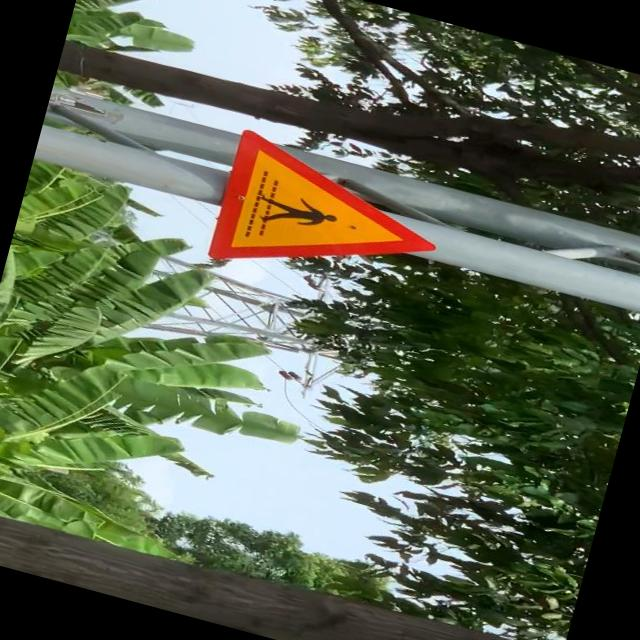W-224: (206, 126, 454, 312)
